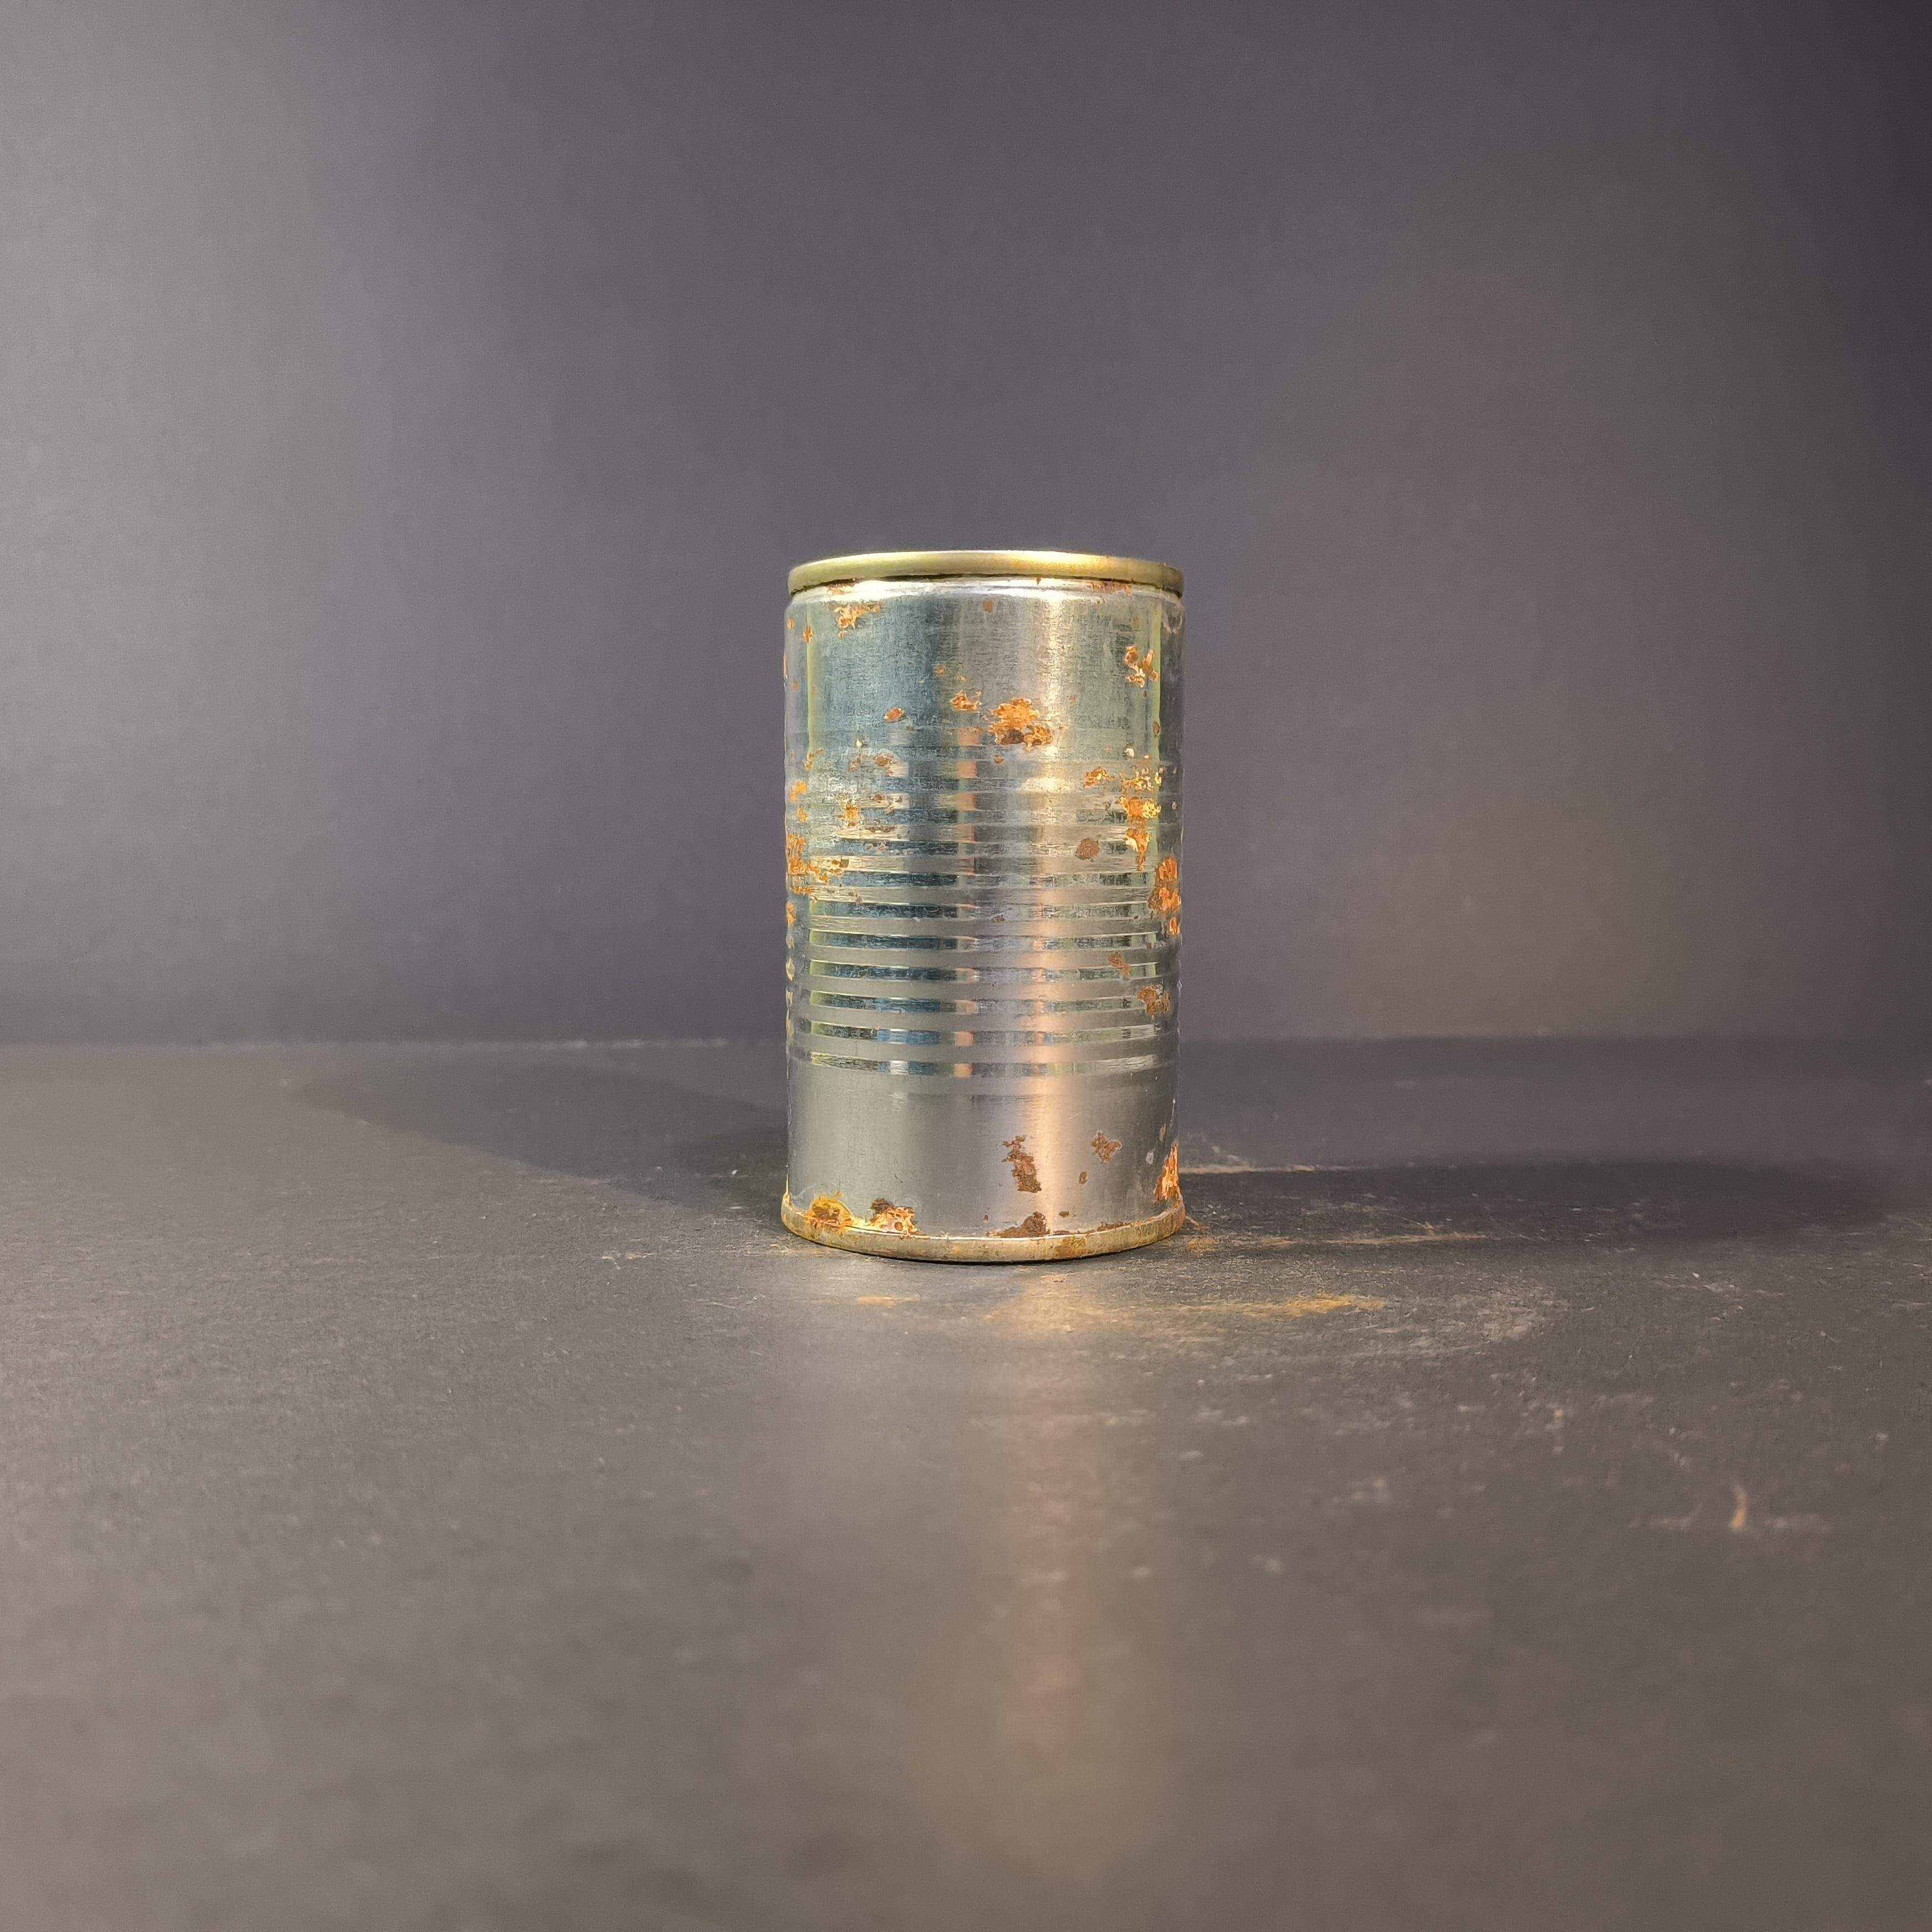Rusted: (763, 510, 1205, 1263)
